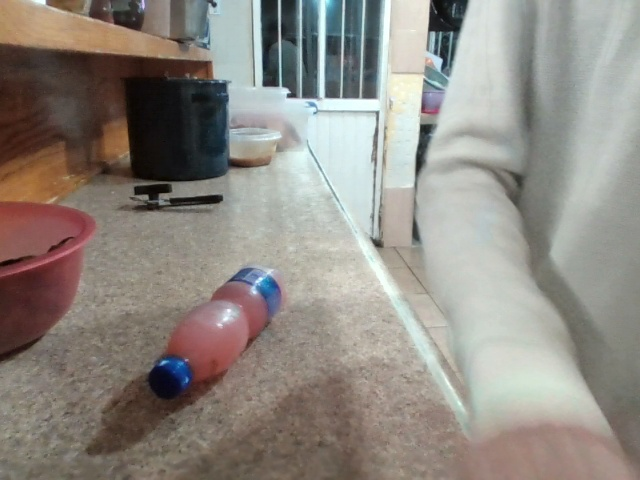botella: (120, 257, 315, 425)
